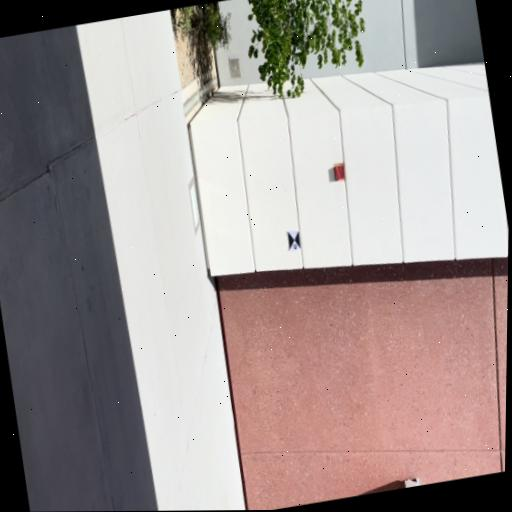target9: (287, 229, 301, 251)
